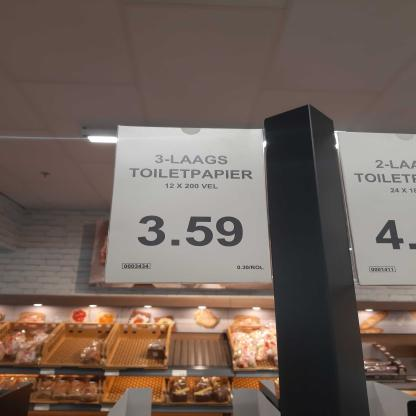prtg: (107, 128, 273, 285), (338, 133, 416, 288)
